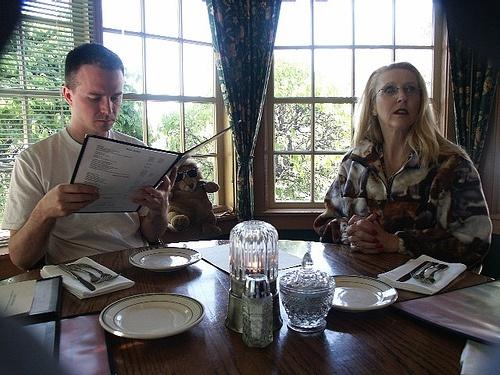head: (62, 42, 127, 136), (368, 60, 427, 135)
person: (4, 40, 182, 277), (316, 59, 489, 265)
